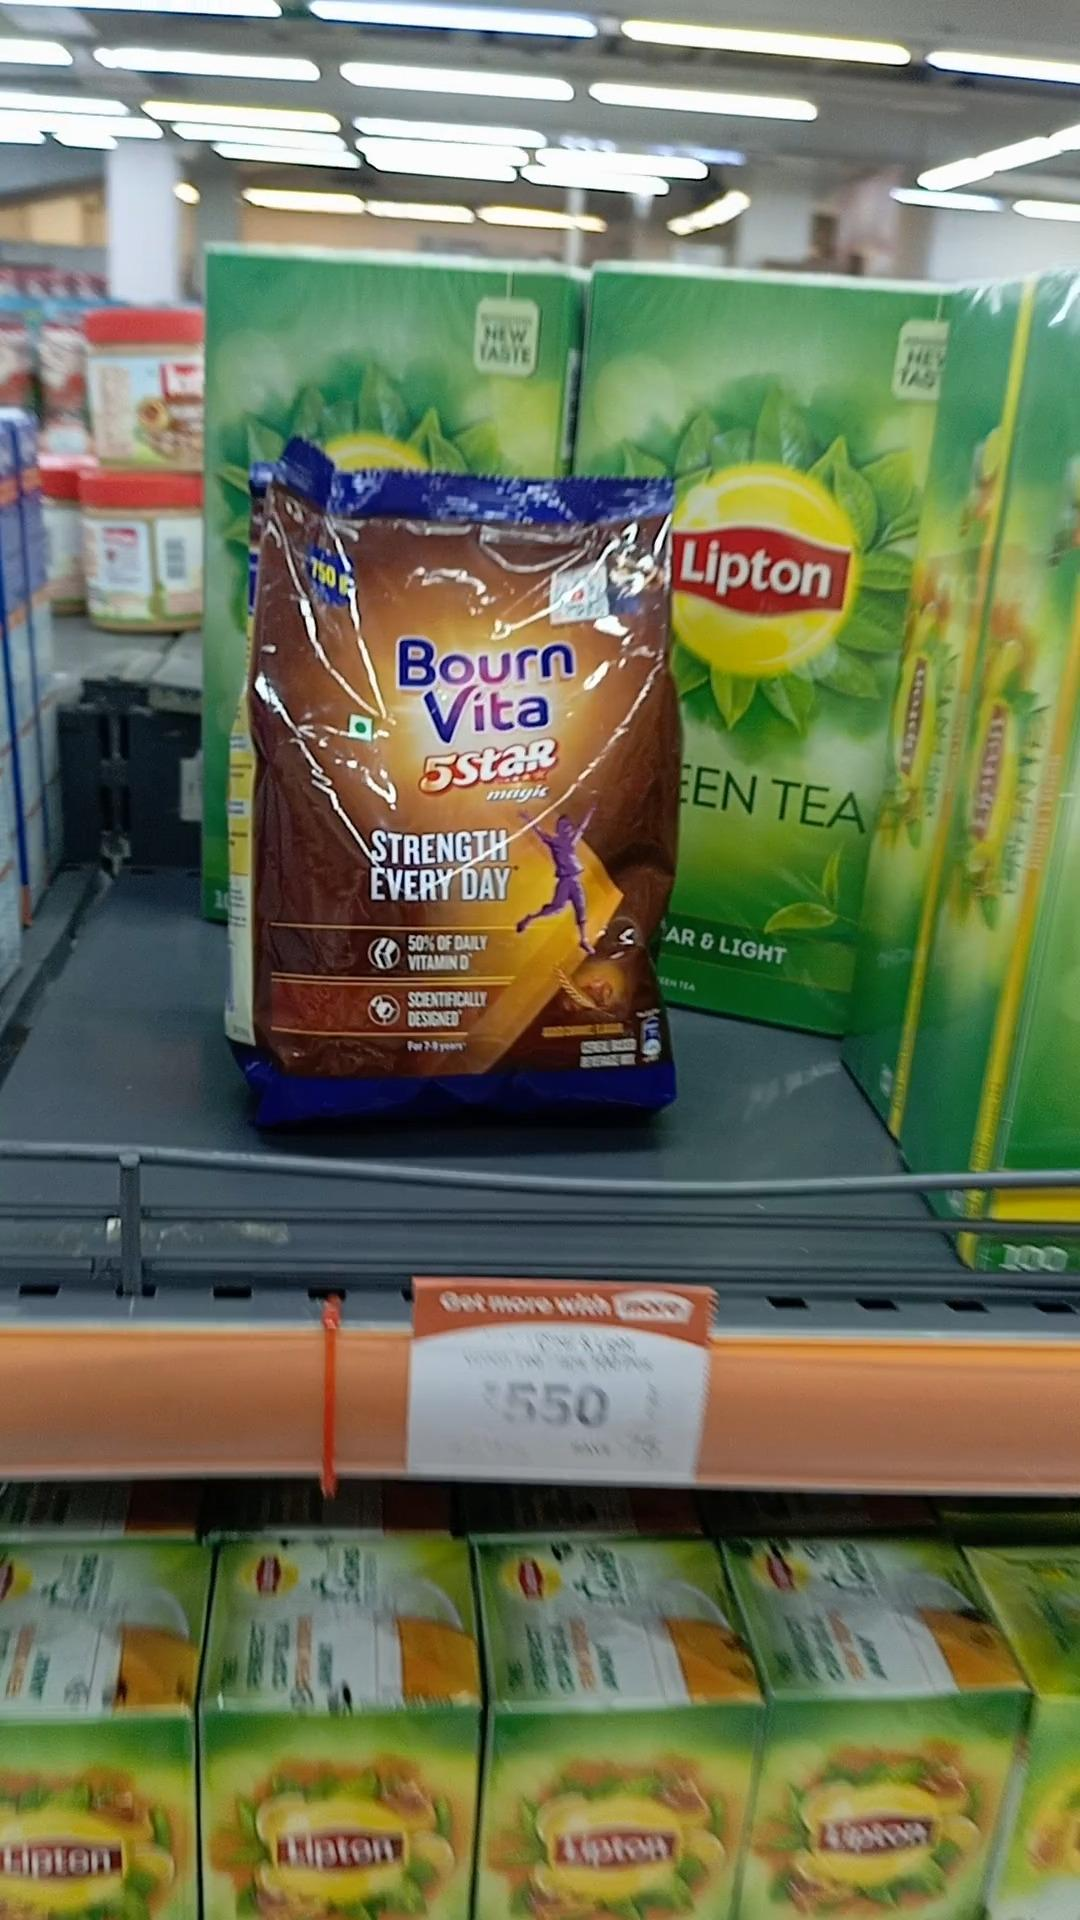BOURN_VITA_FIVE_STAR_MAGIC_750_G_POUCH: (253, 458, 647, 1133)
